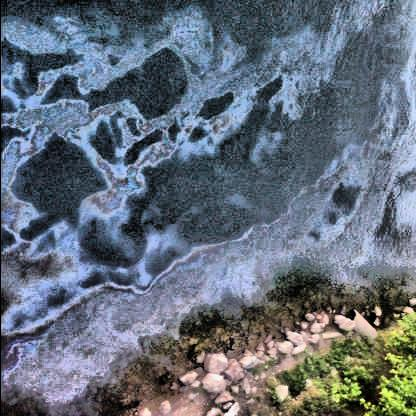sheen: (7, 128, 416, 403), (1, 11, 53, 294), (3, 221, 80, 332)
